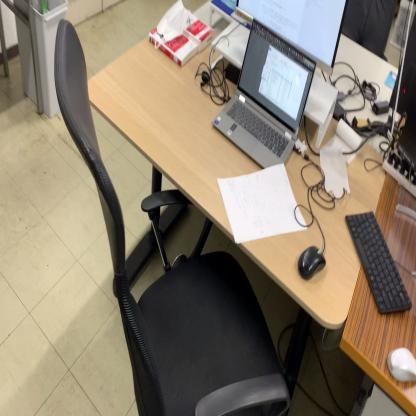chair: (52, 19, 290, 416)
